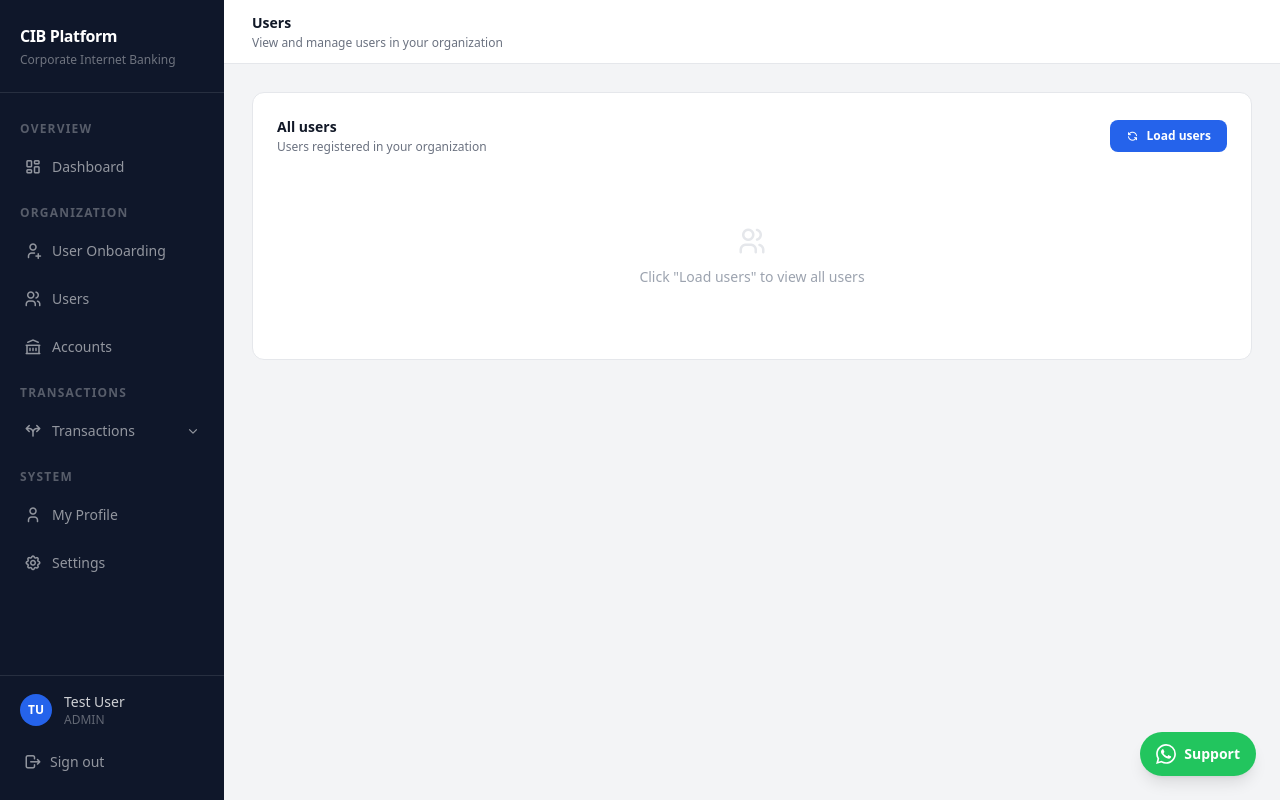
Scenario: Users › shows a load failure and recovers on retry
Click the button "Load users".
click(1169, 136)  # box [1110,120,1227,152]
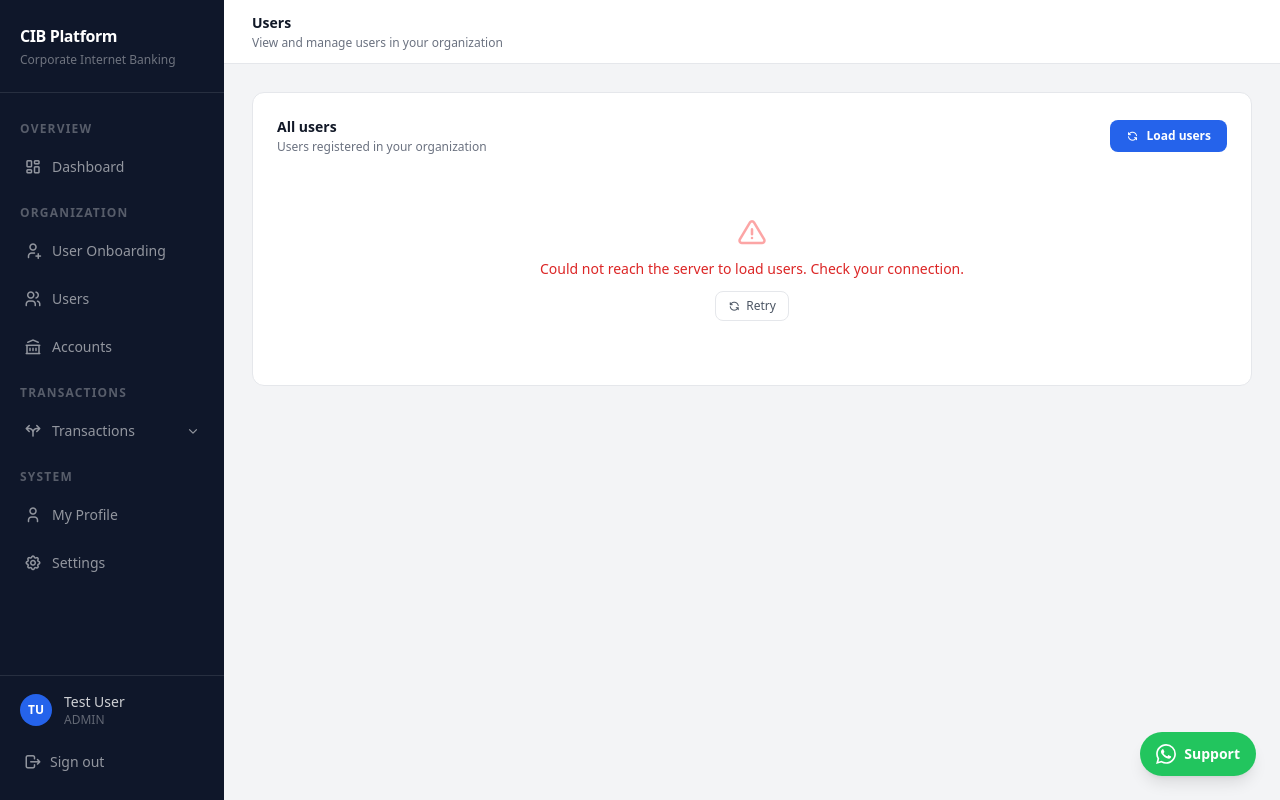
Now the text "Could not reach the server to load users. Check your connection." is shown, box [540,259,964,278]
Click the button "Retry".
click(752, 306)  # box [715,291,789,321]
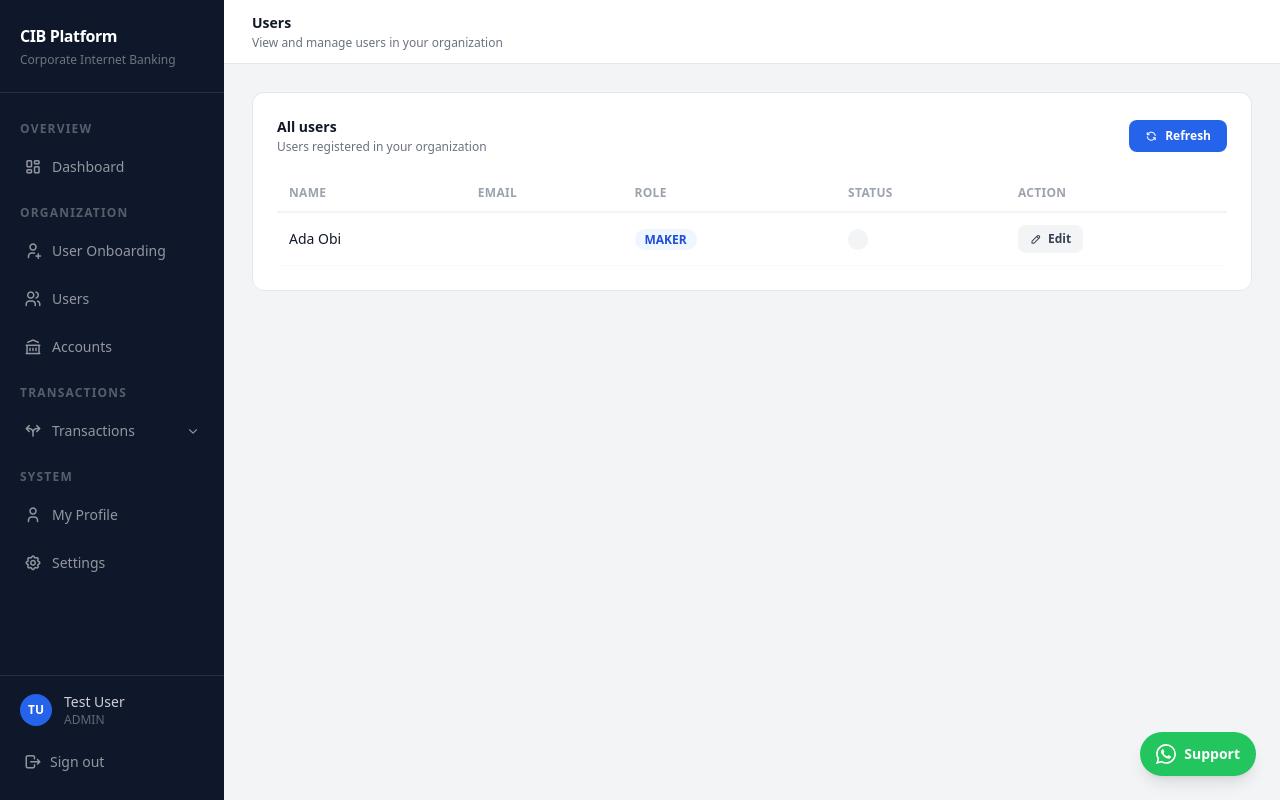
Now the text "Ada Obi" is shown, box [277,212,466,266]
